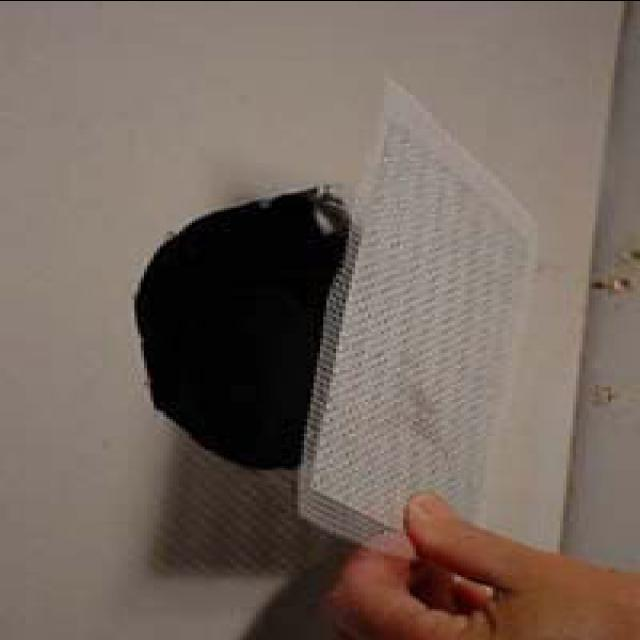Crack: (134, 185, 351, 469)
